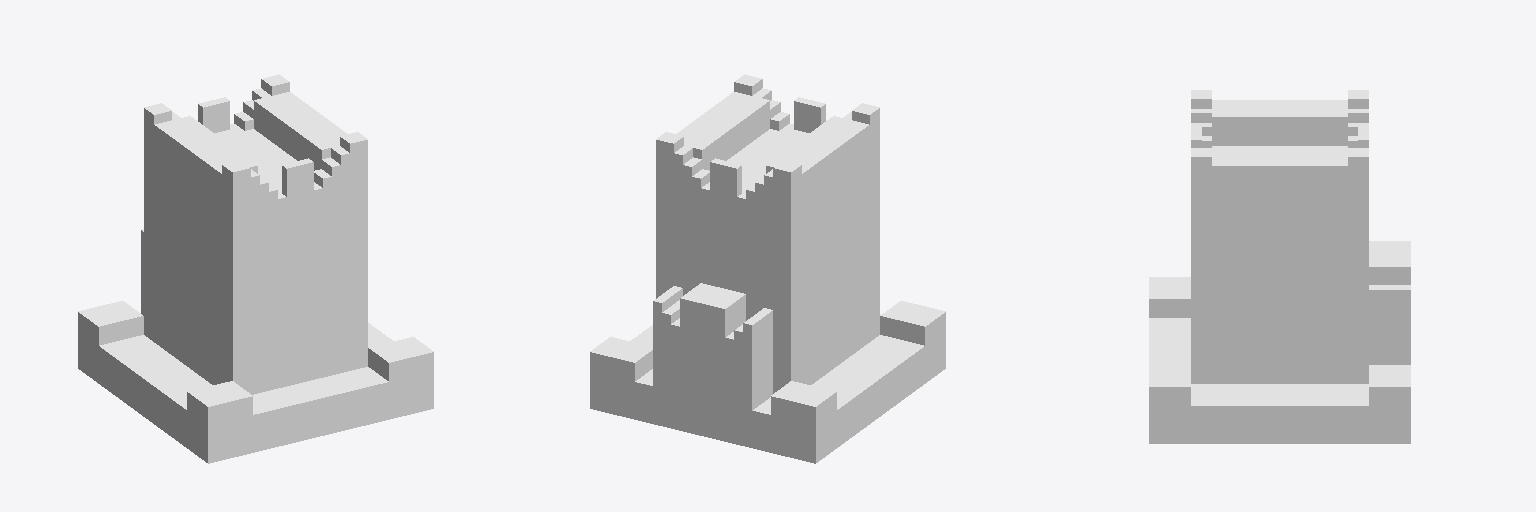
File: torreprincesa.obj
3 renders of one model, left to right at view 1: azimuth 30°, elevation 25°; view 2: azimuth 150°, elevation 25°; view 3: azimuth 270°, elevation 25°, orthographic.
Visible parts, largest first — view 1: torreprincesa; view 2: torreprincesa; view 3: torreprincesa.
Part boxes in pixels (bbox=[...]): torreprincesa: bbox=[78, 74, 433, 463]; torreprincesa: bbox=[590, 74, 945, 463]; torreprincesa: bbox=[1149, 90, 1410, 443].
Size of the model in its own units: 15.79 by 17.68 by 15.79.